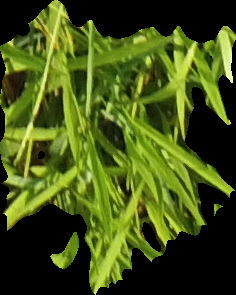grass: (1, 2, 235, 293)
